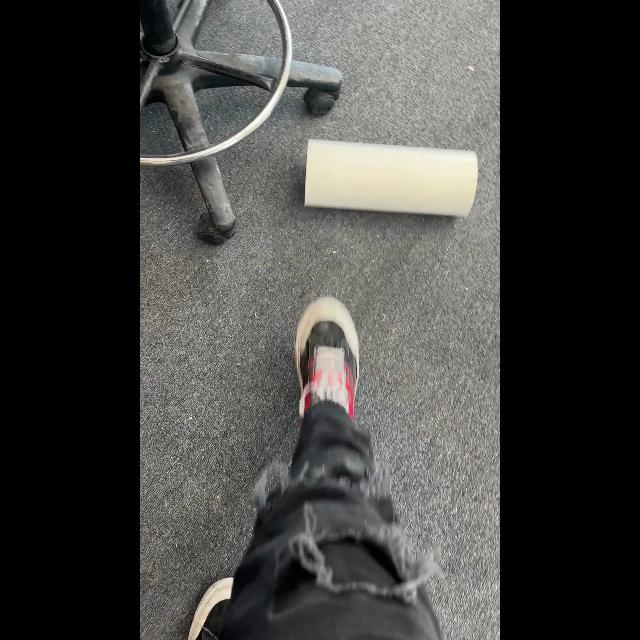CORAL: (304, 138, 478, 218)
